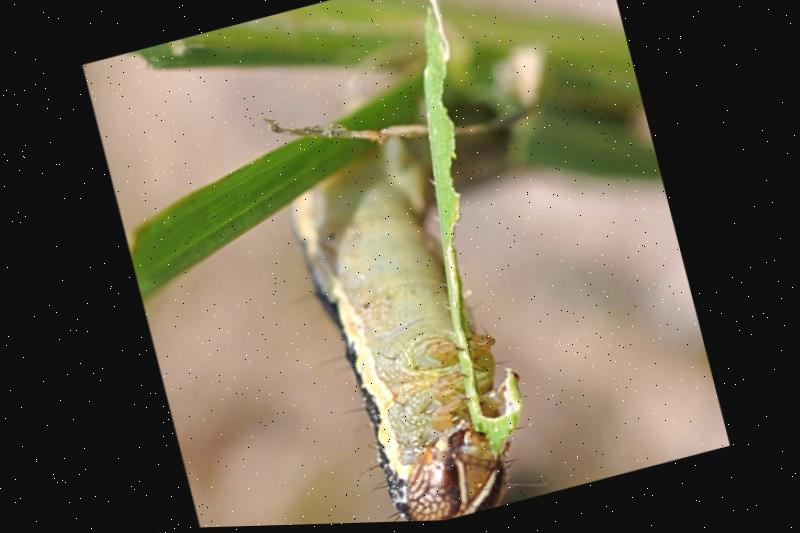fall-armyworm: (290, 133, 520, 525)
